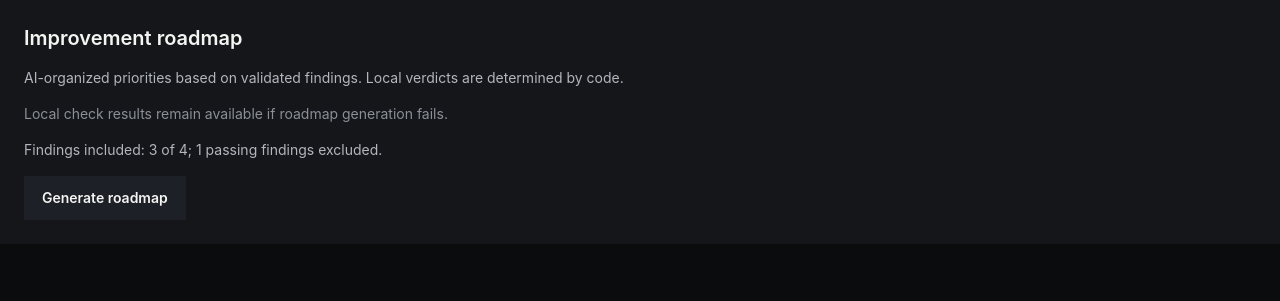
submits strict owner only, locks while submitting and shows correct owner key link
The width and height of the screenshot is (1280, 301).
Later steps or results of the test are not shown.
Click the button "Generate roadmap" at (105, 198), box [24,176,186,220]
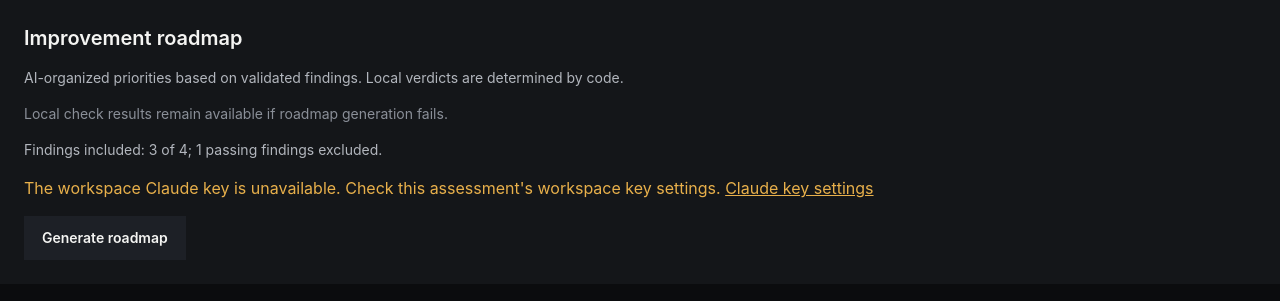
Expected: the message shows "Claude key", [24,178,721,198]
